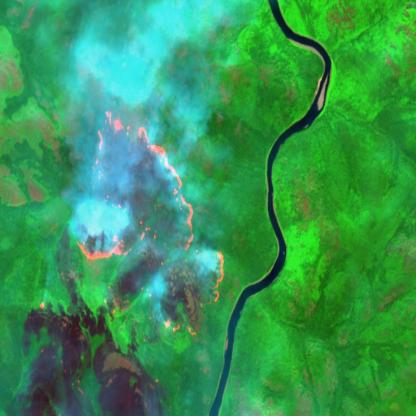fire: (72, 107, 228, 306)
